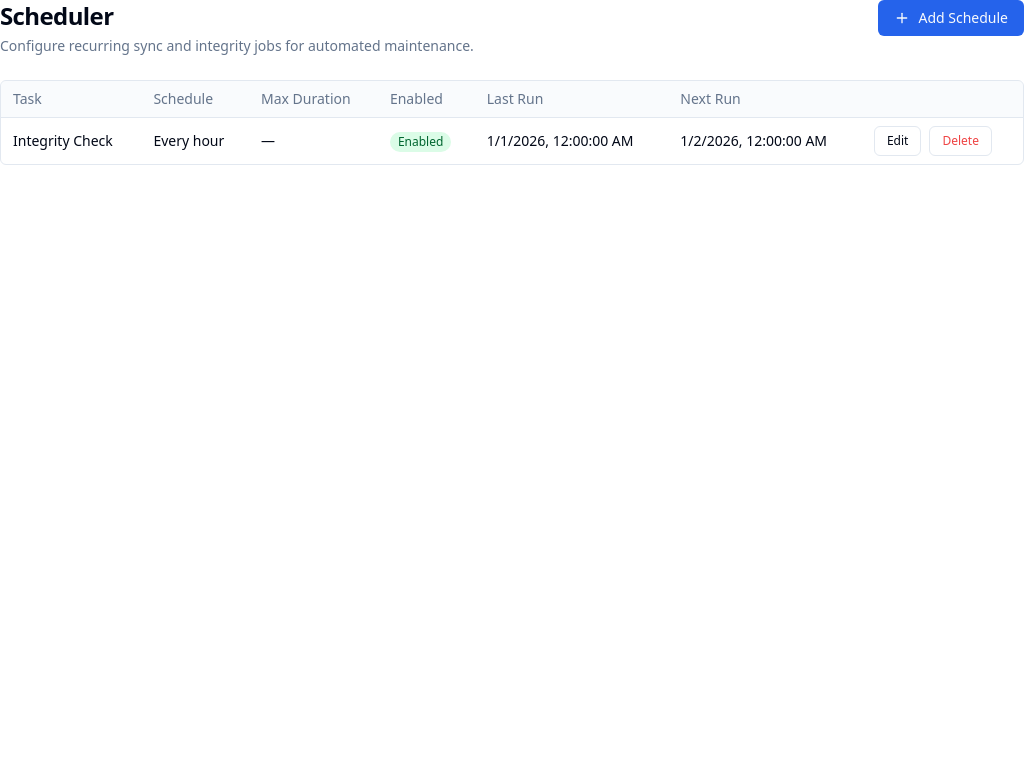
Test: SchedulerPage › deletes a schedule after confirmation
Expected: the row with test id "schedule-row-1" is shown, x1=1 y1=118 x2=1023 y2=164
What coordinates should you click on to do the following:
click the button "Delete"
I would click on:
 (961, 141)
Its box is x1=929 y1=126 x2=992 y2=156.
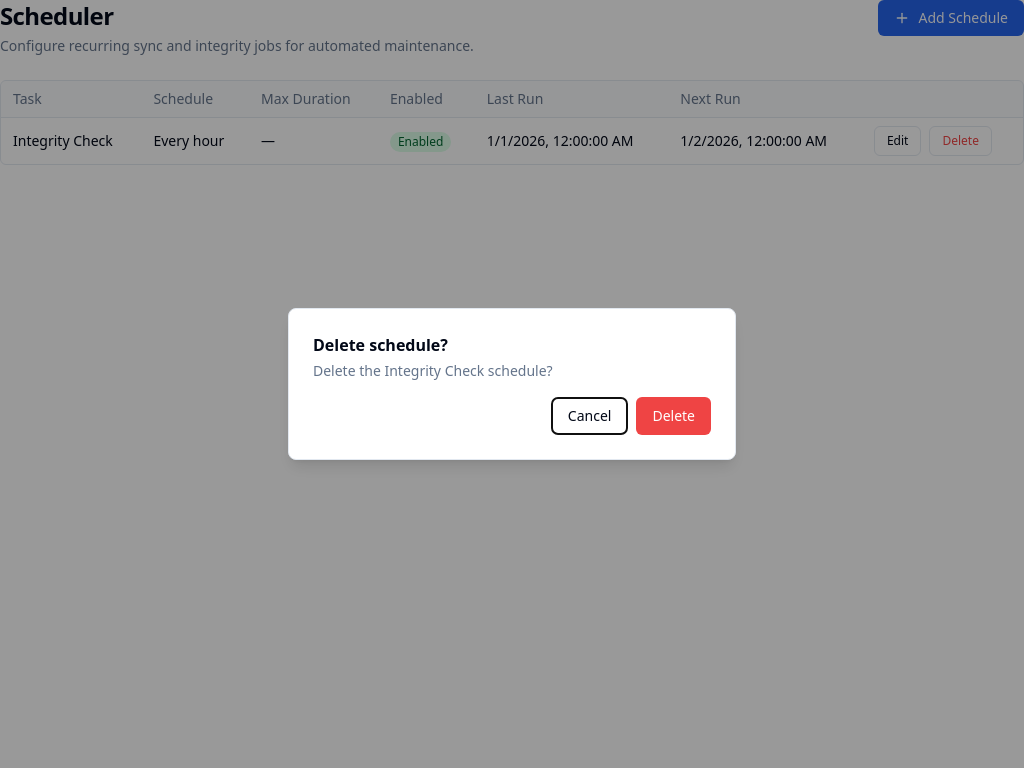
What coordinates should you click on to do the following:
click the button "Delete"
I would click on:
 (674, 416)
Its box is x1=636 y1=397 x2=711 y2=435.
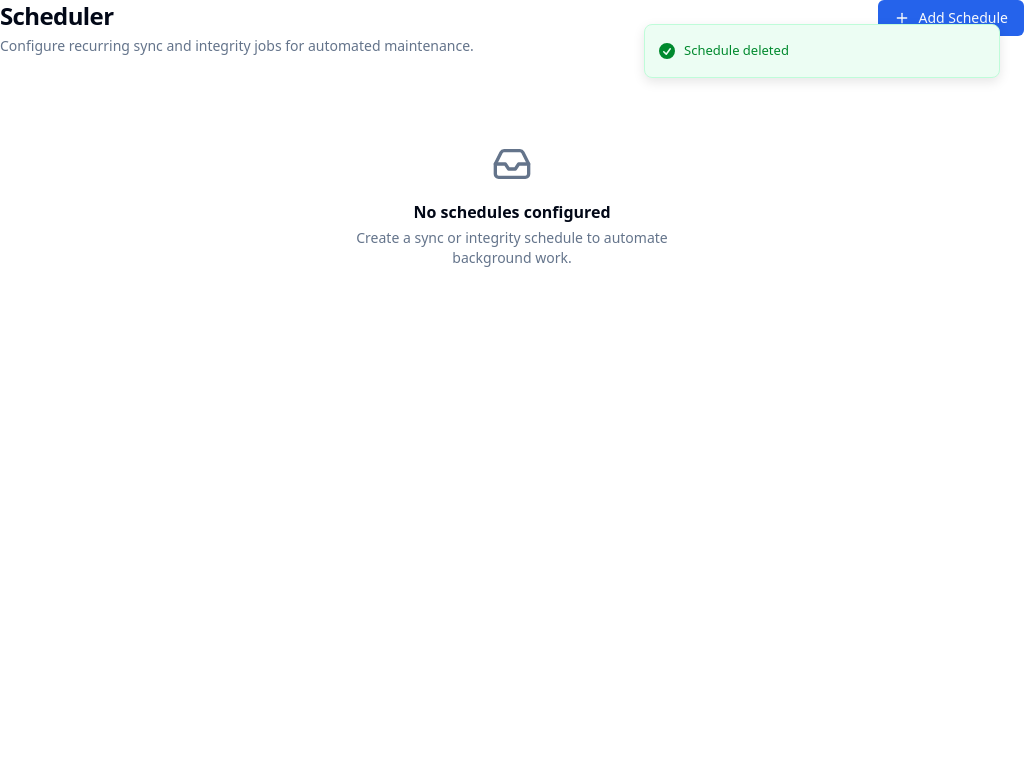
Expected: the text "Schedule deleted" is shown, x1=684 y1=41 x2=789 y2=60
Expected: the row with test id "schedule-row-1" is gone
